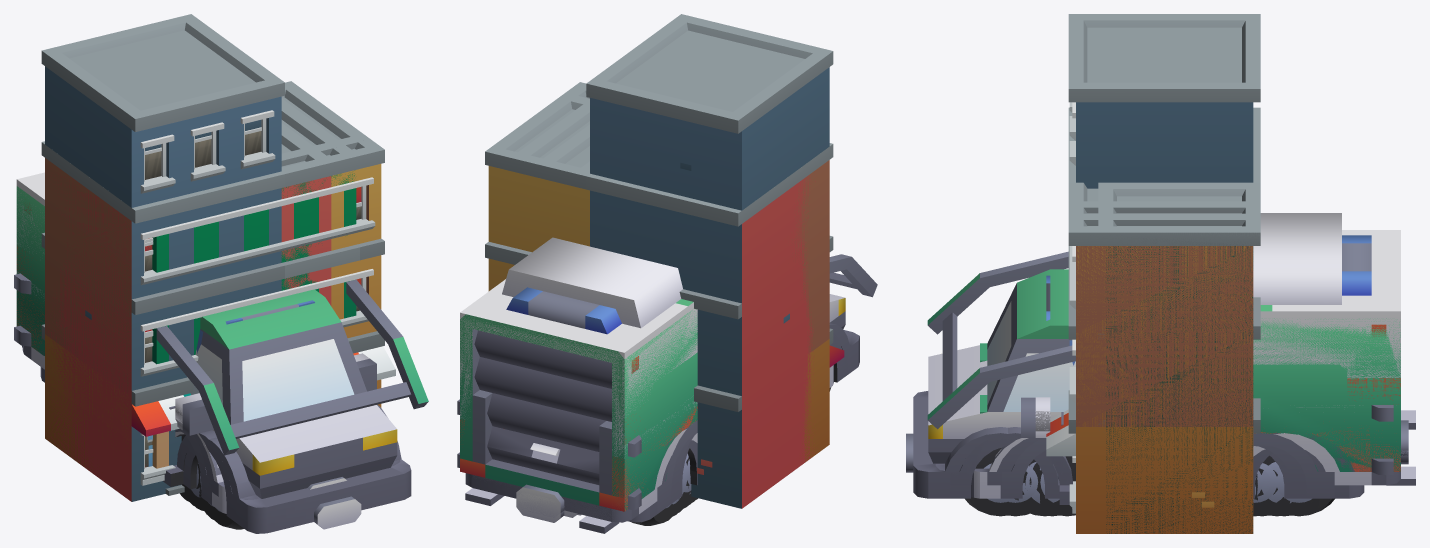
File: street.glb
3 renders of one model, left to right at view 1: azimuth 30°, elevation 25°; view 2: azimuth 150°, elevation 25°; view 3: azimuth 270°, elevation 25°, orthographic. The views are drawn at different scales.
Visible parts, largest first — view 1: building_H_withoutBase, body (×5), building_E_withoutBase, building_F_withoutBase, building_D_withoutBase, arm, building_C_withoutBase, building_B_withoutBase, building_A_withoutBase; view 2: building_H_withoutBase, body (×5), building_F_withoutBase, door, building_E_withoutBase, building_D_withoutBase, arm, building_C_withoutBase; view 3: body (×7), building_E_withoutBase, building_H_withoutBase, building_F_withoutBase, building_G_withoutBase, arm, building_D_withoutBase, wheel-front-left (×3), building_C_withoutBase, wheel-back-left.
Part boxes in pixels (box(x1,y1,x2,y2)): building_H_withoutBase: box(41, 14, 370, 501); body (×5): box(14, 172, 411, 533); building_E_withoutBase: box(41, 139, 395, 485); building_F_withoutBase: box(41, 89, 384, 501); building_D_withoutBase: box(152, 99, 359, 490); arm: box(156, 279, 428, 455); building_C_withoutBase: box(185, 123, 334, 305); building_B_withoutBase: box(165, 247, 359, 495); building_A_withoutBase: box(183, 253, 334, 396); building_H_withoutBase: box(485, 14, 833, 508); body (×5): box(457, 237, 859, 533); building_F_withoutBase: box(488, 82, 833, 508); door: box(474, 330, 611, 484); building_E_withoutBase: box(485, 82, 844, 461); building_D_withoutBase: box(510, 104, 715, 299); arm: box(829, 254, 877, 297); building_C_withoutBase: box(543, 124, 689, 291); body (×7): box(906, 213, 1415, 504); building_E_withoutBase: box(1046, 182, 1260, 533); building_H_withoutBase: box(1068, 14, 1260, 507); building_F_withoutBase: box(1068, 182, 1260, 533); building_G_withoutBase: box(1098, 189, 1260, 533); arm: box(927, 251, 1075, 429); building_D_withoutBase: box(1068, 182, 1260, 381); wheel-front-left (×3): box(965, 447, 1075, 516); building_C_withoutBase: box(1068, 183, 1260, 301); wheel-back-left: box(1254, 455, 1316, 516).
Bounding box in the file's own units: 2.01 × 3.11 × 3.45.
2 materials, 2 textured.
